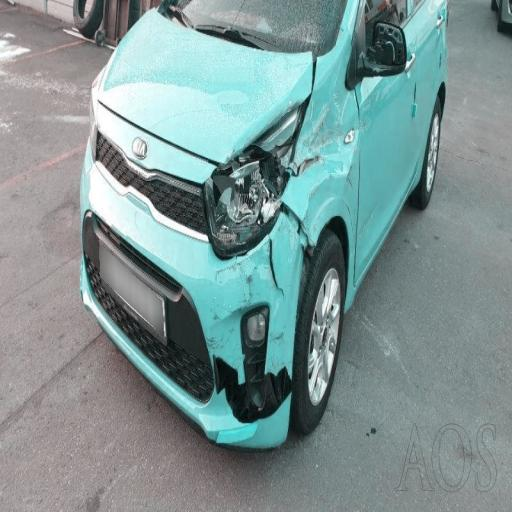broken: (211, 74, 372, 298), (184, 256, 300, 464)
